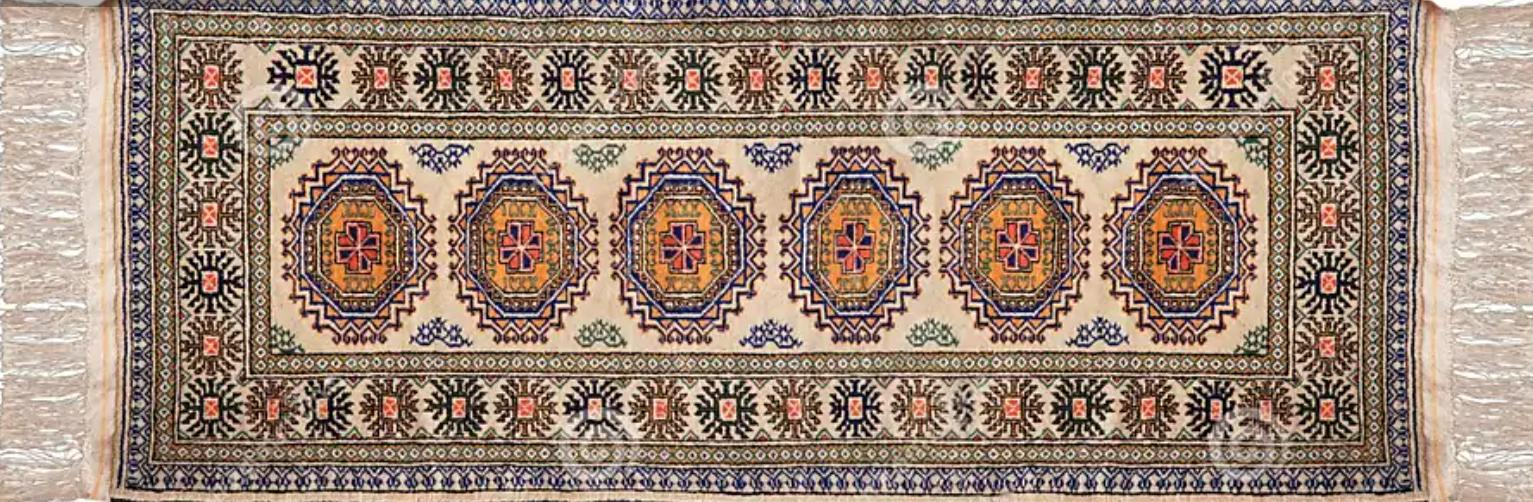carpet: (96, 0, 1437, 494)
